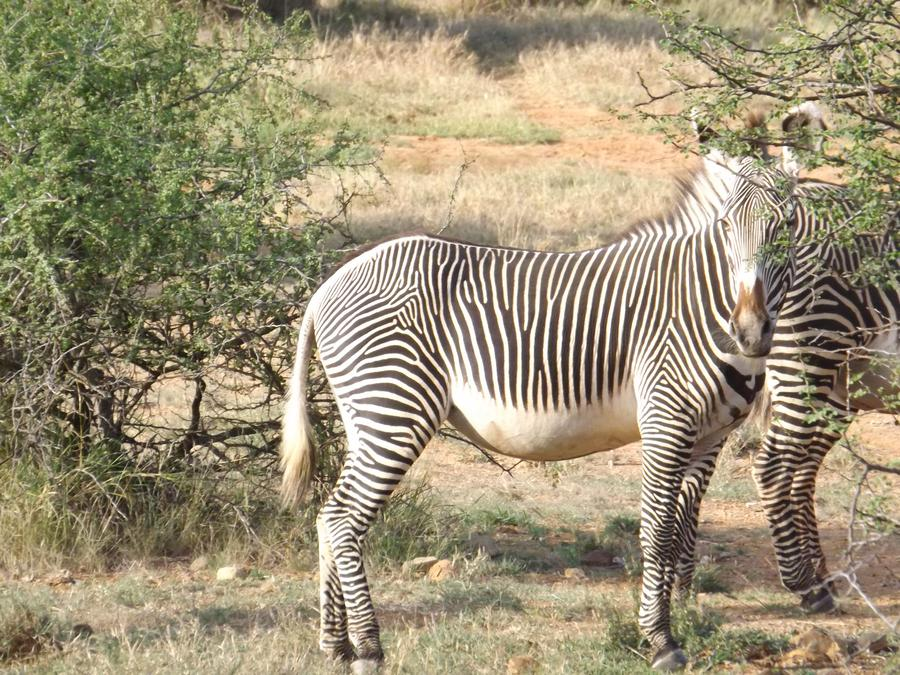zebra_grevys: (305, 204, 713, 445)
